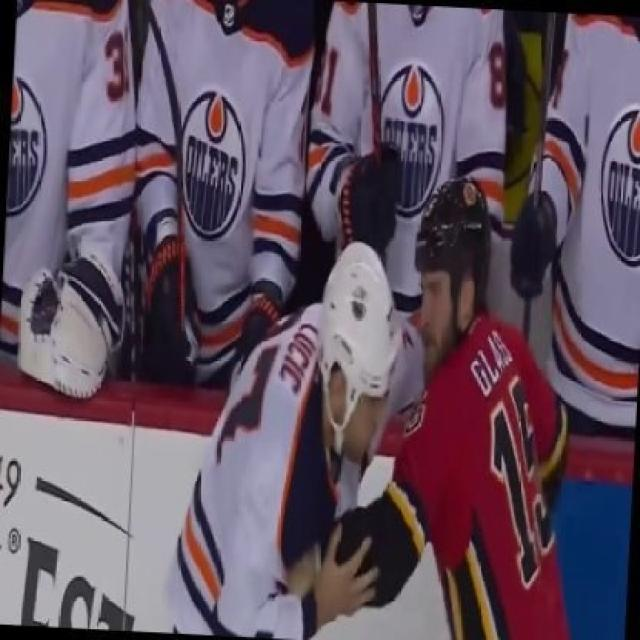fight: (177, 172, 582, 636)
